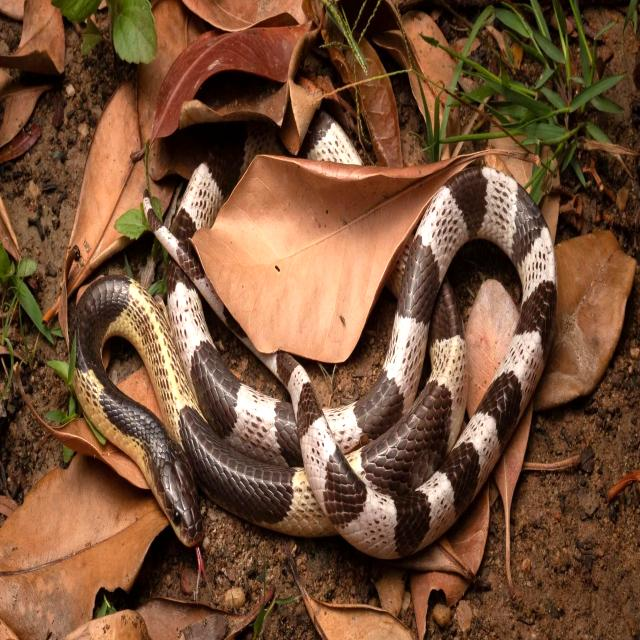Bungarus candidus: (75, 128, 556, 557)
